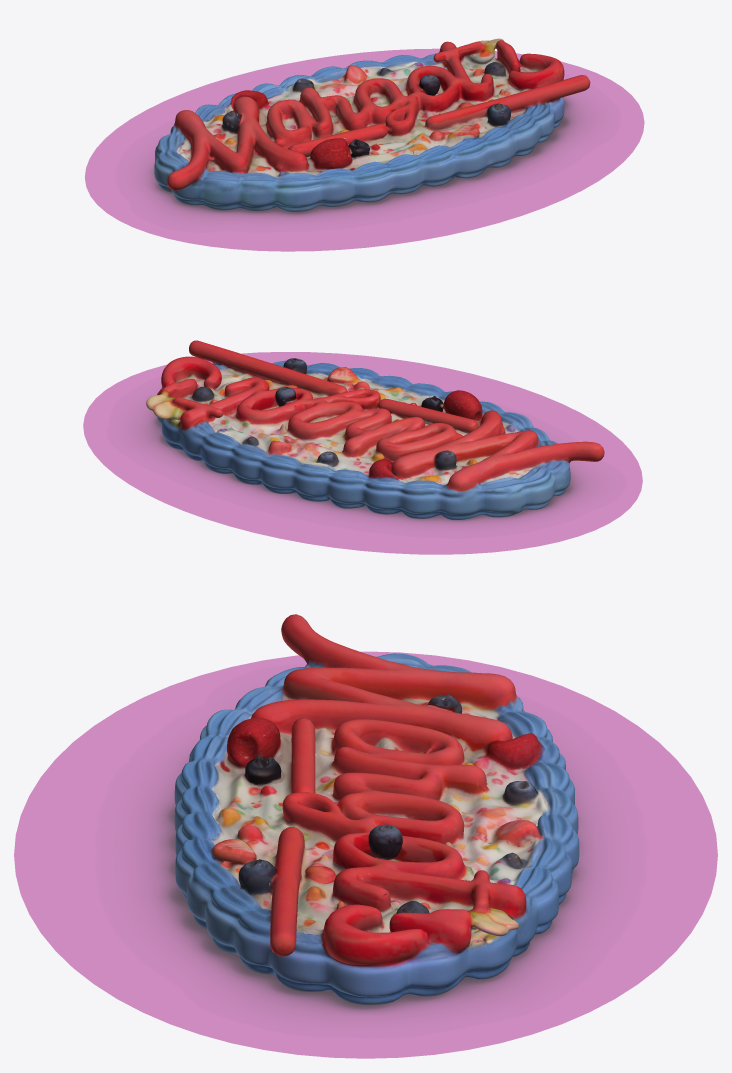
Rendered from Plato_03.glb.
3 renders of one model, top to bottom at view 1: azimuth 30°, elevation 25°; view 2: azimuth 150°, elevation 25°; view 3: azimuth 270°, elevation 25°, orthographic. The views are drawn at different scales.
Visible parts, largest first — view 1: Logo LoRes Bake, Pink Cyrcle, Plane; view 2: Logo LoRes Bake, Pink Cyrcle, Plane; view 3: Logo LoRes Bake, Pink Cyrcle, Plane.
Part boxes in pixels (x1,y1,x2,y2): Logo LoRes Bake: (154,38,590,211); Pink Cyrcle: (84,48,644,251); Plane: (145,96,584,218); Logo LoRes Bake: (146,340,604,519); Pink Cyrcle: (83,352,642,554); Plane: (140,409,586,524); Logo LoRes Bake: (174,614,579,1004); Pink Cyrcle: (14,651,717,1058); Plane: (149,751,594,1015).
Size of the model in its own units: 1.18 by 0.1187 by 0.8656.
4 materials, 3 textured.
